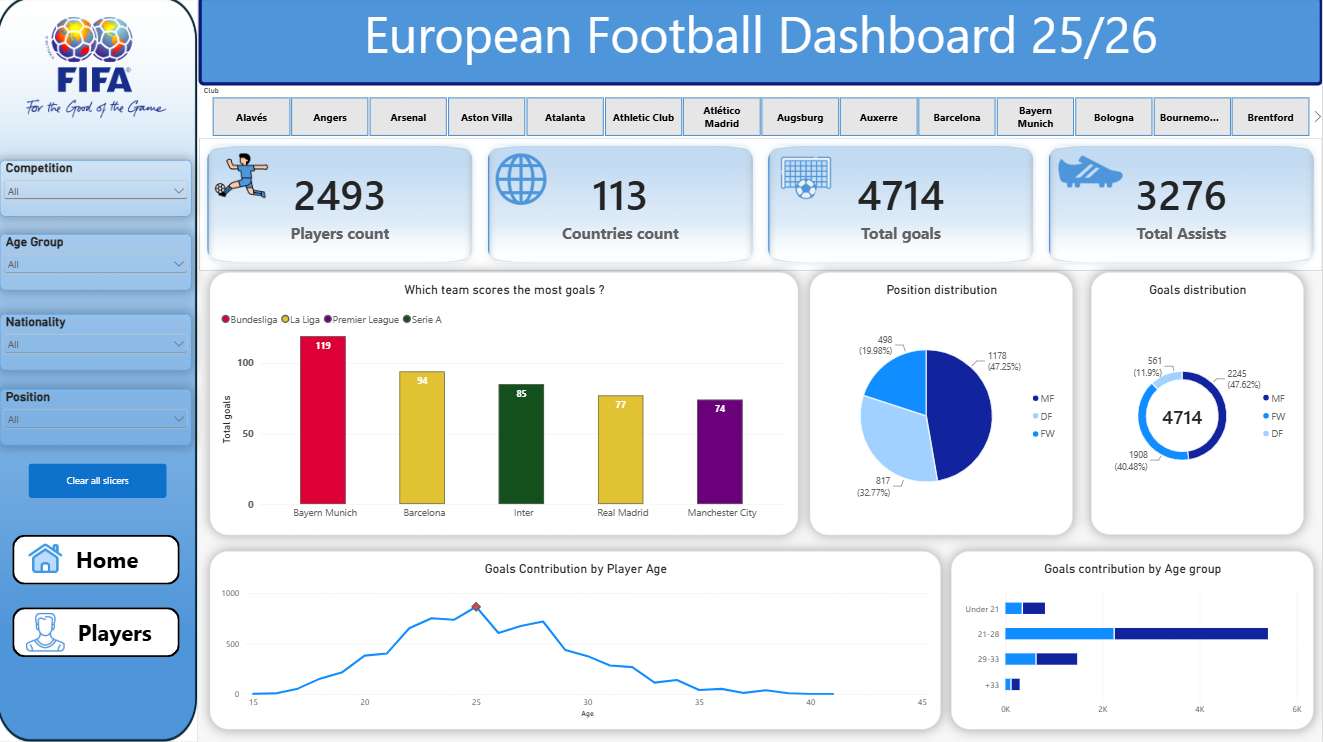

Layout of this report page (visuals, bound fields, positions):
{"tool":"powerbi","page":{"name":"Team","canvas":[1920,1080],"ordinal":1},"visuals":[{"type":"cardVisual","fields":{"Data":["_measures.Players count","_measures.Countries count","_measures.Total goals","_measures.Total Assists"]},"box":[292.3,203.8,1628.1,195.5],"z":0},{"type":"textbox","box":[292.3,0,1628.1,129.7],"z":1000},{"type":"image","box":[43.4,886.7,56.1,68.8],"z":1000,"group":"g2"},{"type":"actionButton","box":[0,0,292.3,1080.6],"z":2000},{"type":"shape","box":[109.6,896.2,123.1,48.9],"z":2000,"group":"g2"},{"type":"image","box":[43.2,20.6,203.8,164.7],"z":3000},{"type":"image","box":[308.7,220.2,92.6,82.3],"z":4000},{"type":"image","box":[1134.1,220.2,76.2,82.3],"z":5000},{"type":"image","box":[1537.6,203.8,92.6,98.8],"z":6000},{"type":"columnChart","title":"Which team scores the most goals ?","fields":{"Category":["dim_clubs.Club"],"Series":["dim_competitions.Competition"],"Y":["_measures.Total goals"]},"box":[308.7,399.3,852.1,380.8],"z":7000},{"type":"pieChart","title":"Position distribution","fields":{"Category":["dim_players.Position"],"Y":["_measures.Players count"]},"box":[1177.4,399.3,380.8,380.8],"z":8000},{"type":"donutChart","title":"Goals distribution","fields":{"Category":["dim_players.Position"],"Y":["_measures.Total goals"]},"box":[1585.3,399.9,307.6,380],"z":9000},{"type":"slicer","fields":{"Values":["dim_competitions.Competition"]},"box":[6.2,236.7,277.9,82.3],"z":10000},{"type":"slicer","fields":{"Values":["dim_players.Age Group","dim_players.Age"]},"box":[6.2,343.7,277.9,82.3],"z":11000},{"type":"slicer","fields":{"Values":["dim_players.Nationality"]},"box":[6.2,459,277.9,82.3],"z":12000},{"type":"slicer","fields":{"Values":["dim_players.Position"]},"box":[6.2,568.1,277.9,82.3],"z":13000},{"type":"image","box":[691.6,228.5,137.9,74.1],"z":14000},{"type":"slicer","fields":{"Values":["dim_clubs.Club"]},"box":[293.2,130.3,1626.9,74.2],"z":15000},{"type":"lineChart","title":"Goals Contribution by Player Age","fields":{"Category":["dim_players.Age"],"Y":["_measures.Total goalscontribution","_measures.Peak Goals Contribution"]},"box":[309.5,803.5,1058.7,258.8],"z":16001},{"type":"actionButton","box":[47.1,676.8,200,50],"z":16002},{"type":"barChart","title":"Goals contribution by Age group ","fields":{"Category":["dim_players.Age Group"],"Y":["_measures.Total Assists","_measures.Total goals"]},"box":[1382.6,803.5,524.8,258.8],"z":16003},{"type":"shape","box":[23.5,780,242.5,72.4],"z":16004,"group":"g1"},{"type":"shape","box":[23.5,884.9,242.5,72.4],"z":16005},{"type":"image","box":[43.4,780,56.1,68.8],"z":16006,"group":"g1"},{"type":"shape","box":[99.5,790.9,123.1,48.9],"z":16007,"group":"g1"},{"type":"group","id":"g1","title":"Group 1","box":[23.5,780,242.5,72.4],"z":16008},{"type":"group","id":"g2","title":"Group 1","box":[43.4,886.7,189.2,68.8],"z":16009}]}

Visuals, with their boxes on the page's 1920x1080 design canvas (x1, y1, x2, y2). These are canvas units, not pixel positions in the 1323x742 screenshot, which may show the page scaled, cropped or inside an application window:
cardVisual - _measures.Players count x _measures.Countries count: rect(292, 204, 1920, 399)
textbox: rect(292, 0, 1920, 130)
image: rect(43, 887, 100, 956)
actionButton: rect(0, 0, 292, 1081)
shape: rect(110, 896, 233, 945)
image: rect(43, 21, 247, 185)
image: rect(309, 220, 401, 302)
image: rect(1134, 220, 1210, 302)
image: rect(1538, 204, 1630, 303)
"Which team scores the most goals ?" columnChart: rect(309, 399, 1161, 780)
"Position distribution" pieChart: rect(1177, 399, 1558, 780)
"Goals distribution" donutChart: rect(1585, 400, 1893, 780)
slicer - dim_competitions.Competition: rect(6, 237, 284, 319)
slicer - dim_players.Age Group x dim_players.Age: rect(6, 344, 284, 426)
slicer - dim_players.Nationality: rect(6, 459, 284, 541)
slicer - dim_players.Position: rect(6, 568, 284, 650)
image: rect(692, 228, 830, 303)
slicer - dim_clubs.Club: rect(293, 130, 1920, 204)
"Goals Contribution by Player Age" lineChart: rect(310, 804, 1368, 1062)
actionButton: rect(47, 677, 247, 727)
"Goals contribution by Age group " barChart: rect(1383, 804, 1907, 1062)
shape: rect(24, 780, 266, 852)
shape: rect(24, 885, 266, 957)
image: rect(43, 780, 100, 849)
shape: rect(100, 791, 223, 840)
"Group 1" group: rect(24, 780, 266, 852)
"Group 1" group: rect(43, 887, 233, 956)
